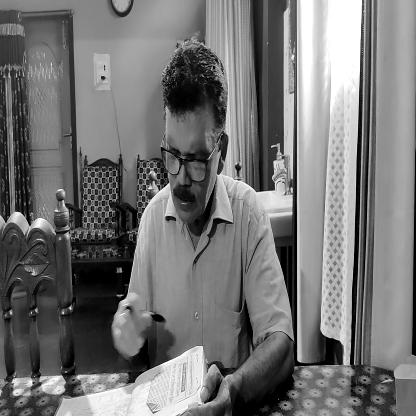Normal: (160, 39, 226, 225)
